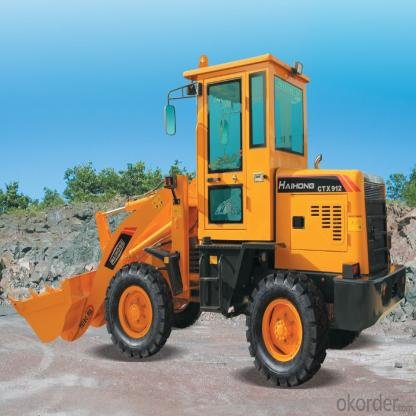bull_dozer/loader/grader: (3, 48, 410, 388)
